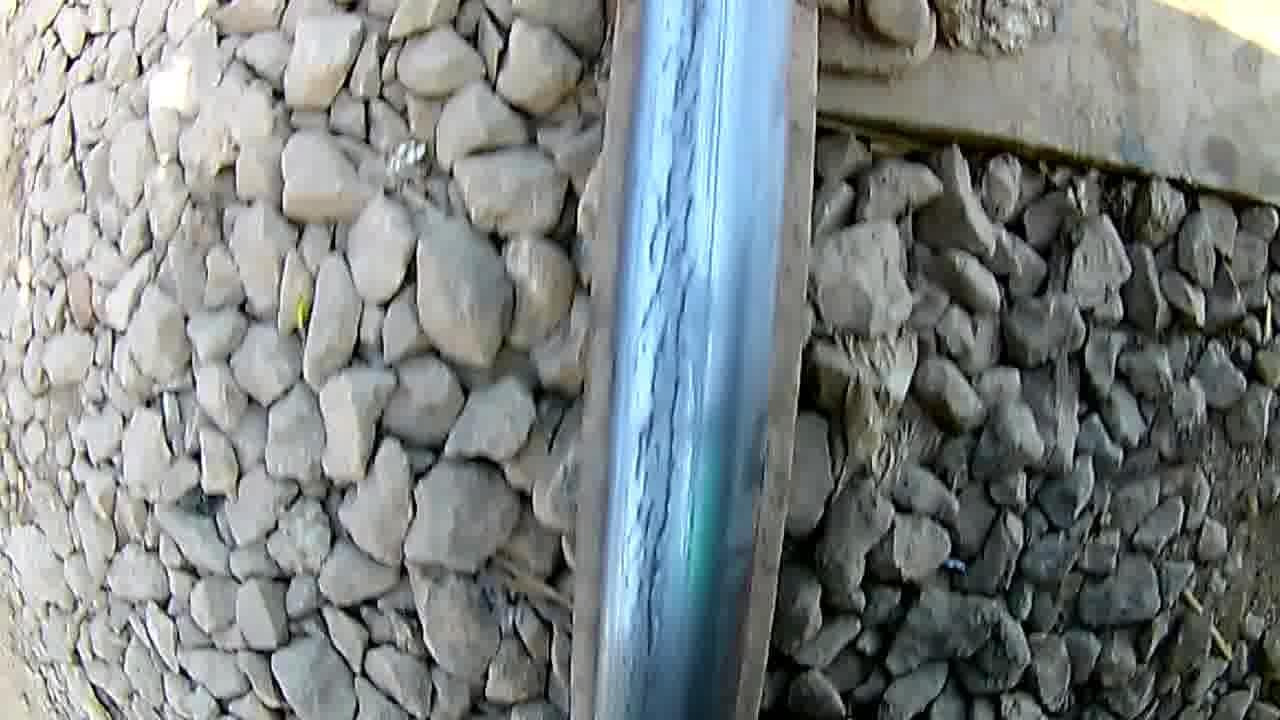crack: (623, 0, 741, 667)
